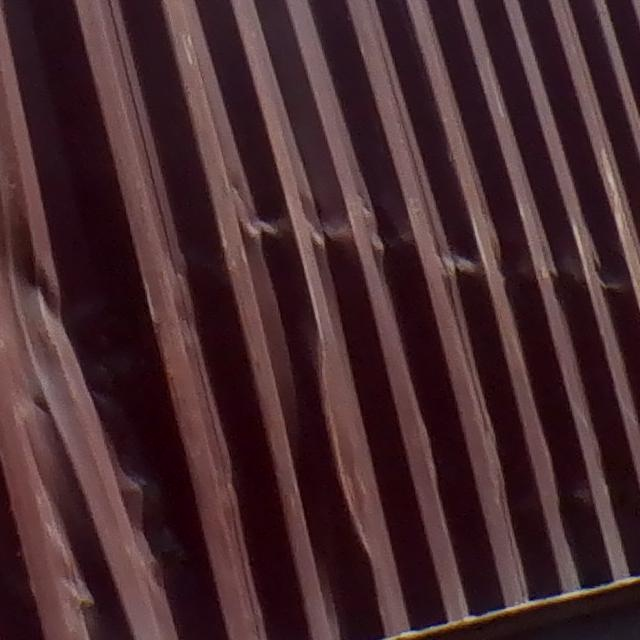Dent: (228, 180, 637, 303), (2, 221, 195, 463)
